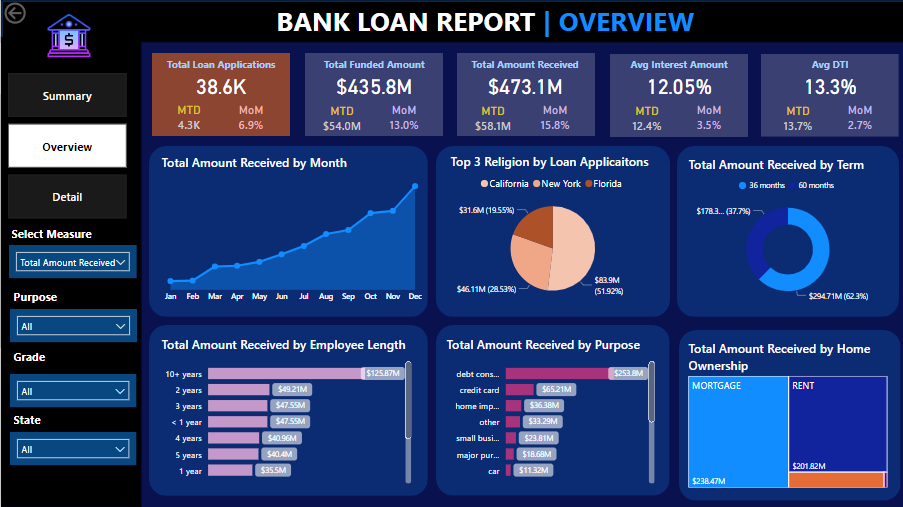

Layout of this report page (visuals, bound fields, positions):
{"tool":"powerbi","page":{"name":"Overview","canvas":[1280,720],"ordinal":1},"visuals":[{"type":"shape","box":[0,1.7,1280,60.5],"z":0},{"type":"shape","box":[214.1,76.5,195.6,117.6],"z":0,"group":"g1"},{"type":"shape","box":[0,54.1,198.6,666.2],"z":1000},{"type":"card","fields":{"Values":["_Measure.Total_Loan_Applications"]},"box":[214.1,103.8,195.5,37.6],"z":1000,"group":"g1"},{"type":"card","fields":{"Values":["_Measure.Total_Fund"]},"box":[430.6,103.8,195.5,37.6],"z":1000,"group":"g2"},{"type":"card","fields":{"Values":["_Measure.Avg_Interest"]},"box":[862.9,103.9,195.5,37.6],"z":1000,"group":"g4"},{"type":"card","fields":{"Values":["_Measure.Total_Payment"]},"box":[645.3,104.3,195.5,37.6],"z":1000,"group":"g3"},{"type":"card","fields":{"Values":["_Measure.AVG_DTI"]},"box":[1077,104.3,195.5,37.6],"z":1000,"group":"g5"},{"type":"shape","box":[430.9,76.5,195.6,117.6],"z":2000},{"type":"textbox","box":[213.8,77.7,195.8,34.4],"z":2000,"group":"g1"},{"type":"textbox","box":[430.3,77.8,195.8,34.4],"z":2000,"group":"g2"},{"type":"textbox","box":[862.6,77.9,195.8,34.4],"z":2000,"group":"g4"},{"type":"textbox","box":[645,78.3,195.8,34.4],"z":2000,"group":"g3"},{"type":"textbox","box":[1076.7,78.3,195.8,34.4],"z":2000,"group":"g5"},{"type":"shape","box":[646.3,76.5,195.6,117.6],"z":3000},{"type":"card","title":"MTD","fields":{"Values":["_Measure.MTD_Loan_Applications"]},"box":[214,148,105,46.5],"z":3000,"group":"g1"},{"type":"card","title":"MTD","fields":{"Values":["_Measure.MTD_Fund"]},"box":[430.5,148,105,46.5],"z":3000,"group":"g2"},{"type":"card","title":"MTD","fields":{"Values":["_Measure.MTD_interest"]},"box":[862.8,148.1,105,46.5],"z":3000,"group":"g4"},{"type":"card","title":"MTD","fields":{"Values":["_Measure.MTD_Payment"]},"box":[645.2,148.5,105,46.5],"z":3000,"group":"g3"},{"type":"card","title":"MTD","fields":{"Values":["_Measure.MTD_DTI"]},"box":[1076.9,148.5,105,46.5],"z":3000,"group":"g5"},{"type":"shape","box":[863.1,78,195.6,117.6],"z":4000},{"type":"card","title":"MoM","fields":{"Values":["_Measure.MoM_Loan_Applications"]},"box":[299.1,147.4,110.6,46.8],"z":4000,"group":"g1"},{"type":"card","title":"MoM","fields":{"Values":["_Measure.MoM_Fund"]},"box":[515.6,147.4,110.6,46.8],"z":4000,"group":"g2"},{"type":"card","title":"MoM","fields":{"Values":["_Measure.MoM_Interest"]},"box":[947.9,147.5,110.6,46.8],"z":4000,"group":"g4"},{"type":"card","title":"MoM","fields":{"Values":["_Measure.MoM_Payment"]},"box":[730.3,147.9,110.6,46.8],"z":4000,"group":"g3"},{"type":"card","title":"MoM","fields":{"Values":["_Measure.MoM_DTI"]},"box":[1162,147.9,110.6,46.8],"z":4000,"group":"g5"},{"type":"shape","box":[1077.2,78,195,117],"z":5000},{"type":"textbox","box":[385.5,0,620.8,62.4],"z":6000},{"type":"slicer","fields":{"Values":["financial_loan.purpose"]},"box":[12.2,438.8,179.5,47.3],"z":7000},{"type":"textbox","box":[10.3,316.4,171.6,32.8],"z":8000},{"type":"textbox","box":[13,579.6,171.6,33.8],"z":9000},{"type":"slicer","fields":{"Values":["financial_loan.address_state"]},"box":[12.9,613.4,178.8,47.3],"z":10000},{"type":"textbox","box":[12.4,490.5,172.7,32.7],"z":11000},{"type":"slicer","fields":{"Values":["financial_loan.grade"]},"box":[12.9,531.4,178.8,47],"z":12000},{"type":"group","id":"g1","title":"Group 1","box":[213.8,76.5,195.8,118],"z":13000},{"type":"group","id":"g2","title":"Group 2","box":[430.3,77.8,196,117.2],"z":14000},{"type":"group","id":"g3","title":"Group 2","box":[645,78.3,196.7,116.7],"z":15000},{"type":"group","id":"g4","title":"Group 2","box":[862.6,77.9,196.3,116.6],"z":16000},{"type":"group","id":"g5","title":"Group 2","box":[1076.7,78.3,196.7,116.7],"z":17000},{"type":"shape","box":[209.8,208.3,395.4,242.4],"z":18000},{"type":"shape","box":[616.5,208.3,331.7,242.4],"z":19000},{"type":"actionButton","box":[0,0,100,40],"z":20000},{"type":"shape","box":[958.1,208.3,314.6,242.4],"z":21000},{"type":"shape","box":[209.8,462,395.4,242.4],"z":22000},{"type":"slicer","fields":{"Values":["Select Measure.Select Measure"]},"box":[11.2,349.3,180.9,47.4],"z":23000},{"type":"textbox","box":[12.3,406,171.5,32.6],"z":24000},{"type":"areaChart","fields":{"Y":["_Measure.Total Amount Received"],"Category":["Dim_Date.Month"]},"box":[222.9,219.3,381.9,220.5],"z":25000},{"type":"clusteredBarChart","fields":{"Y":["_Measure.Total Amount Received"],"Category":["financial_loan.emp_length"]},"box":[222.9,478.3,363.9,214.5],"z":26000},{"type":"shape","box":[616.9,462.7,331.3,242.2],"z":27000},{"type":"shape","box":[960.2,468.7,314.5,242.2],"z":28000},{"type":"clusteredBarChart","fields":{"Y":["_Measure.Total Amount Received"],"Category":["financial_loan.purpose"]},"box":[626.5,478.3,304.8,214.5],"z":29000},{"type":"donutChart","fields":{"Y":["_Measure.Total Amount Received"],"Category":["financial_loan.term"]},"box":[969.9,222.9,291.6,214.5],"z":30000},{"type":"treemap","fields":{"Values":["_Measure.Total Amount Received"],"Group":["financial_loan.home_ownership"]},"box":[969.9,483.1,291.6,214.5],"z":31000},{"type":"pieChart","title":"Top 3 Religion by Loan Applicaitons","fields":{"Y":["_Measure.Total Amount Received"],"Category":["Dim_Stae.Tên"]},"box":[632.4,218.9,300,218.9],"z":32000},{"type":"pageNavigator","box":[10.3,104.3,169,207.8],"z":32002},{"type":"image","box":[53.4,8.6,85.3,86.2],"z":32003}]}

Visuals, with their boxes on the page's 1280x720 design canvas (x1, y1, x2, y2). These are canvas units, not pixel positions in the 903x507 screenshot, which may show the page scaled, cropped or inside an application window:
shape: crop(0, 2, 1280, 62)
shape: crop(214, 76, 410, 194)
shape: crop(0, 54, 199, 720)
card - _Measure.Total_Loan_Applications: crop(214, 104, 410, 141)
card - _Measure.Total_Fund: crop(431, 104, 626, 141)
card - _Measure.Avg_Interest: crop(863, 104, 1058, 142)
card - _Measure.Total_Payment: crop(645, 104, 841, 142)
card - _Measure.AVG_DTI: crop(1077, 104, 1272, 142)
shape: crop(431, 76, 626, 194)
textbox: crop(214, 78, 410, 112)
textbox: crop(430, 78, 626, 112)
textbox: crop(863, 78, 1058, 112)
textbox: crop(645, 78, 841, 113)
textbox: crop(1077, 78, 1272, 113)
shape: crop(646, 76, 842, 194)
"MTD" card: crop(214, 148, 319, 194)
"MTD" card: crop(430, 148, 536, 194)
"MTD" card: crop(863, 148, 968, 195)
"MTD" card: crop(645, 148, 750, 195)
"MTD" card: crop(1077, 148, 1182, 195)
shape: crop(863, 78, 1059, 196)
"MoM" card: crop(299, 147, 410, 194)
"MoM" card: crop(516, 147, 626, 194)
"MoM" card: crop(948, 148, 1058, 194)
"MoM" card: crop(730, 148, 841, 195)
"MoM" card: crop(1162, 148, 1273, 195)
shape: crop(1077, 78, 1272, 195)
textbox: crop(386, 0, 1006, 62)
slicer - financial_loan.purpose: crop(12, 439, 192, 486)
textbox: crop(10, 316, 182, 349)
textbox: crop(13, 580, 185, 613)
slicer - financial_loan.address_state: crop(13, 613, 192, 661)
textbox: crop(12, 490, 185, 523)
slicer - financial_loan.grade: crop(13, 531, 192, 578)
"Group 1" group: crop(214, 76, 410, 194)
"Group 2" group: crop(430, 78, 626, 195)
"Group 2" group: crop(645, 78, 842, 195)
"Group 2" group: crop(863, 78, 1059, 194)
"Group 2" group: crop(1077, 78, 1273, 195)
shape: crop(210, 208, 605, 451)
shape: crop(616, 208, 948, 451)
actionButton: crop(0, 0, 100, 40)
shape: crop(958, 208, 1273, 451)
shape: crop(210, 462, 605, 704)
slicer - Select Measure.Select Measure: crop(11, 349, 192, 397)
textbox: crop(12, 406, 184, 439)
areaChart - _Measure.Total Amount Received x Dim_Date.Month: crop(223, 219, 605, 440)
clusteredBarChart - _Measure.Total Amount Received x financial_loan.emp_length: crop(223, 478, 587, 693)
shape: crop(617, 463, 948, 705)
shape: crop(960, 469, 1275, 711)
clusteredBarChart - _Measure.Total Amount Received x financial_loan.purpose: crop(626, 478, 931, 693)
donutChart - _Measure.Total Amount Received x financial_loan.term: crop(970, 223, 1262, 437)
treemap - _Measure.Total Amount Received x financial_loan.home_ownership: crop(970, 483, 1262, 698)
"Top 3 Religion by Loan Applicaitons" pieChart: crop(632, 219, 932, 438)
pageNavigator: crop(10, 104, 179, 312)
image: crop(53, 9, 139, 95)
